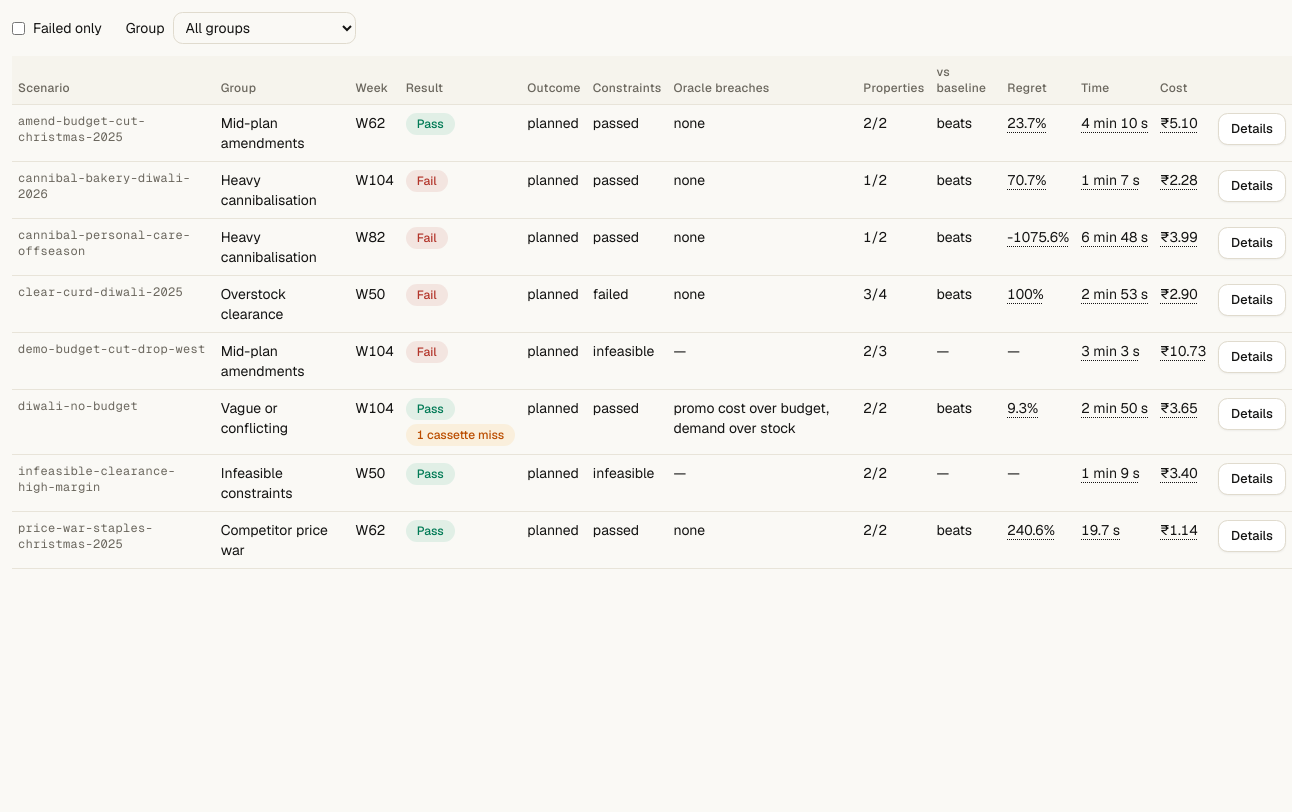
Test: EvalScenarioTable › opens a run's trace as the report holds it, with a link to the scenario
Click the button with aria-label "Details for diwali-no-budget" at {"x": 1252, "y": 414}, box x1=1218 y1=398 x2=1286 y2=430
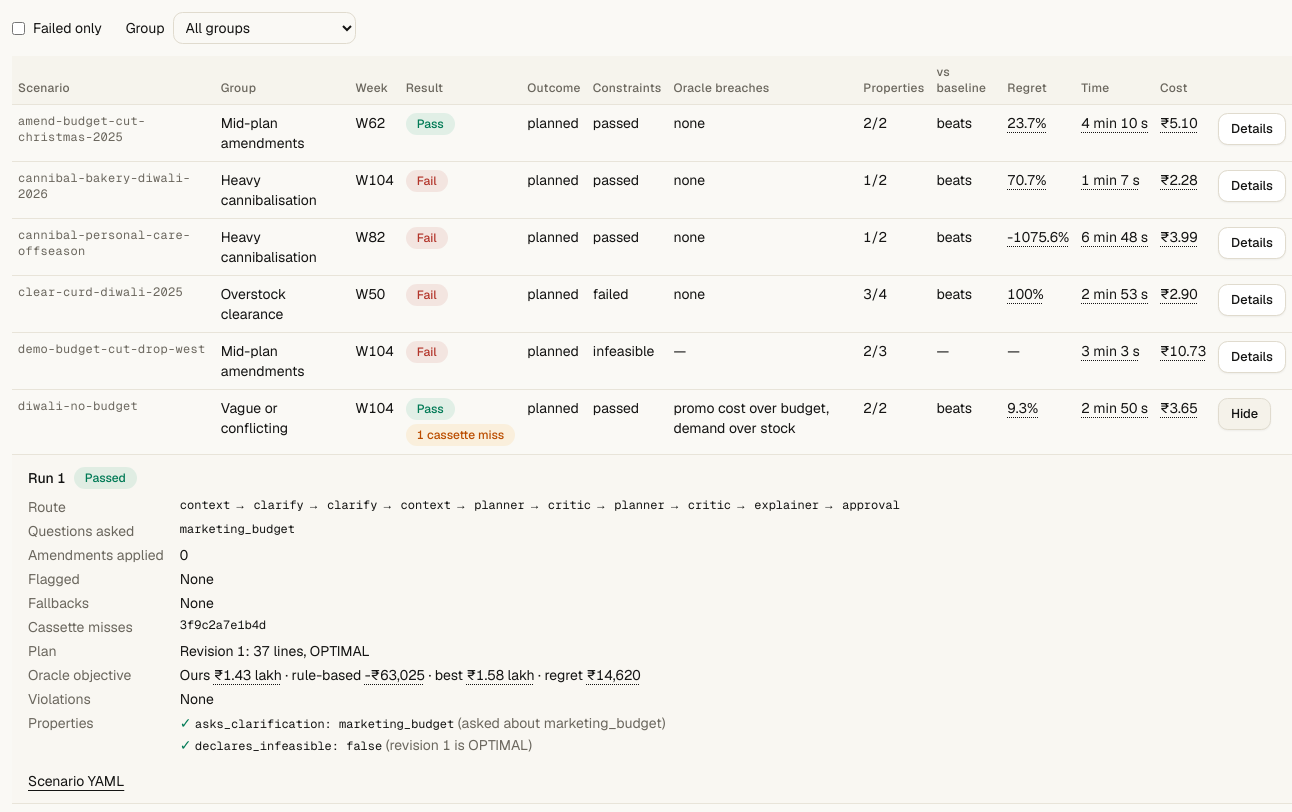
expect the button with aria-label "Details for diwali-no-budget" is expanded: met, box x1=1218 y1=398 x2=1271 y2=430
expect the text "Passed" is shown: met, box x1=74 y1=467 x2=137 y2=489
expect the list item "context" is shown: met, box x1=180 y1=497 x2=230 y2=513
